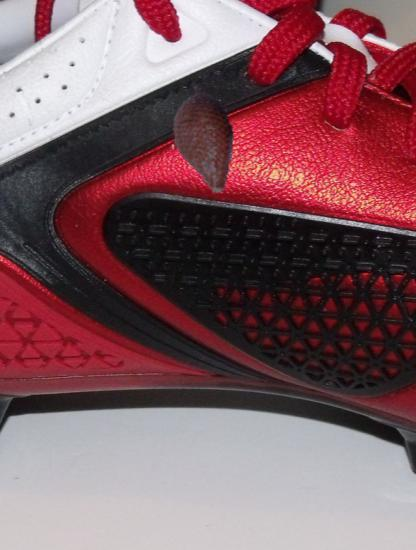Salak: (148, 84, 260, 196)
